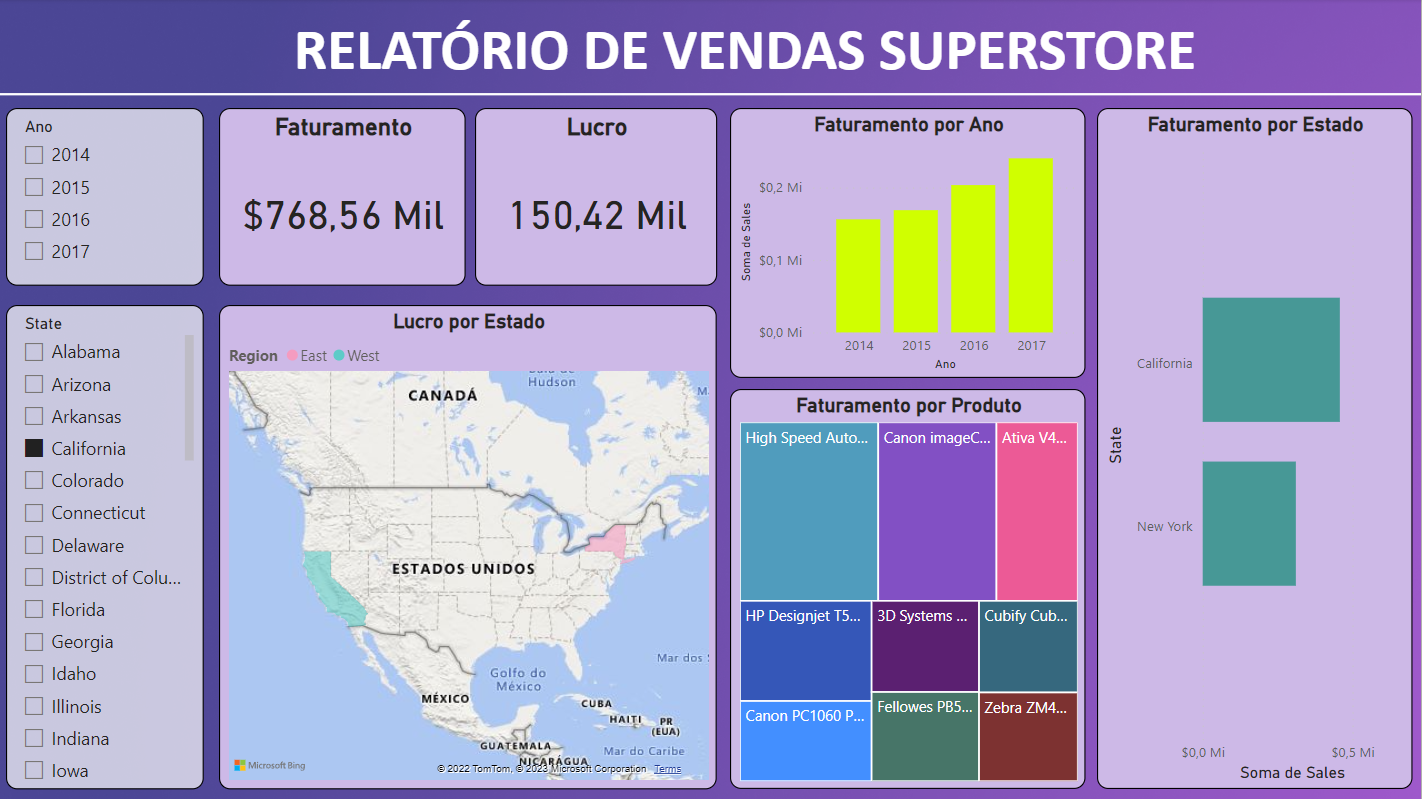

The dashboard page shown, as its layout file describes it:
{"tool":"powerbi","page":{"name":"Página 1","canvas":[1280,720],"ordinal":0},"visuals":[{"type":"barChart","title":"Faturamento por Estado","fields":{"Category":["Sample - Superstore.State"],"Y":["Sum(Sample - Superstore.Sales)"]},"box":[988.4,98.1,283.5,613],"z":0},{"type":"slicer","fields":{"Values":["Sample - Superstore.Ano"]},"box":[6.3,98.1,178.2,160.2],"z":1000},{"type":"slicer","fields":{"Values":["Sample - Superstore.State"]},"box":[6.3,275.4,178.2,435.7],"z":2000},{"type":"columnChart","title":"Faturamento por Ano","fields":{"Y":["Sum(Sample - Superstore.Sales)"],"Category":["Sample - Superstore.Ano"]},"box":[658,98.1,320.5,243],"z":3000},{"type":"card","title":"Faturamento","fields":{"Values":["Sum(Sample - Superstore.Sales)"]},"box":[198,98.1,222.3,160.2],"z":4000},{"type":"filledMap","title":"Lucro por Estado","fields":{"Category":["Sample - Superstore.State"],"Series":["Sample - Superstore.Region"]},"box":[198,275.4,448.3,435.7],"z":5000},{"type":"textbox","box":[157.5,7.2,1028,78.3],"z":6000},{"type":"shape","box":[0,79.2,1280,12.6],"z":7000},{"type":"treemap","title":"Faturamento por Produto","fields":{"Group":["Sample - Superstore.Product Name"],"Values":["Sum(Sample - Superstore.Sales)"]},"box":[658,351.1,320.5,360.1],"z":8000},{"type":"card","title":"Lucro","fields":{"Values":["Sum(Sample - Superstore.Profit)"]},"box":[428.5,98.1,217.8,160.2],"z":8001}]}

Visuals, with their boxes in screenshot pixels (x1, y1, x2, y2), scaled from the page's 1280x720 canvas onto the 1422x799 screenshot:
"Faturamento por Estado" barChart: 1098,109,1413,789
slicer - Sample - Superstore.Ano: 7,109,205,287
slicer - Sample - Superstore.State: 7,306,205,789
"Faturamento por Ano" columnChart: 731,109,1087,379
"Faturamento" card: 220,109,467,287
"Lucro por Estado" filledMap: 220,306,718,789
textbox: 175,8,1317,95
shape: 0,88,1421,102
"Faturamento por Produto" treemap: 731,390,1087,789
"Lucro" card: 476,109,718,287
